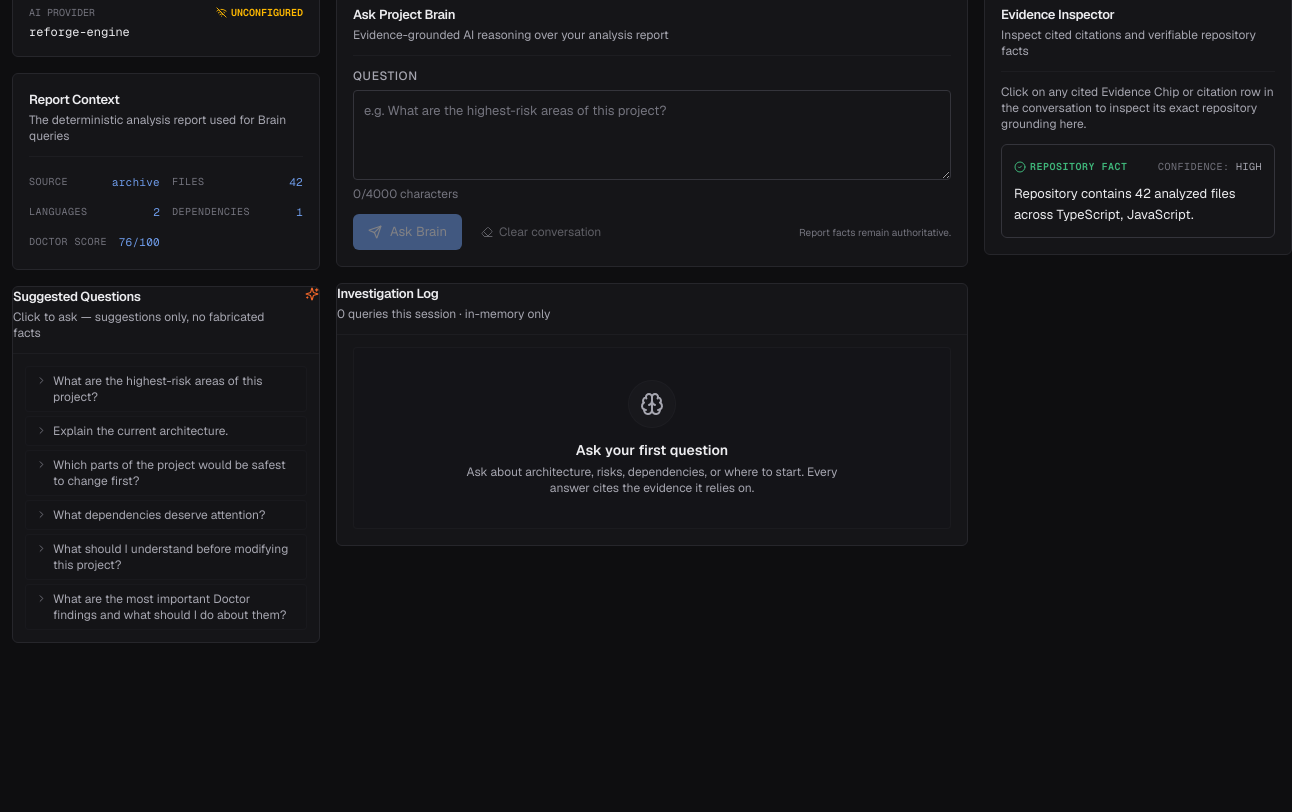
Project Brain › renders limitations prominently
Type "What are the highest-risk areas?" into the text box labelled "Question". click: (652, 135)
box: [353,90,951,180]
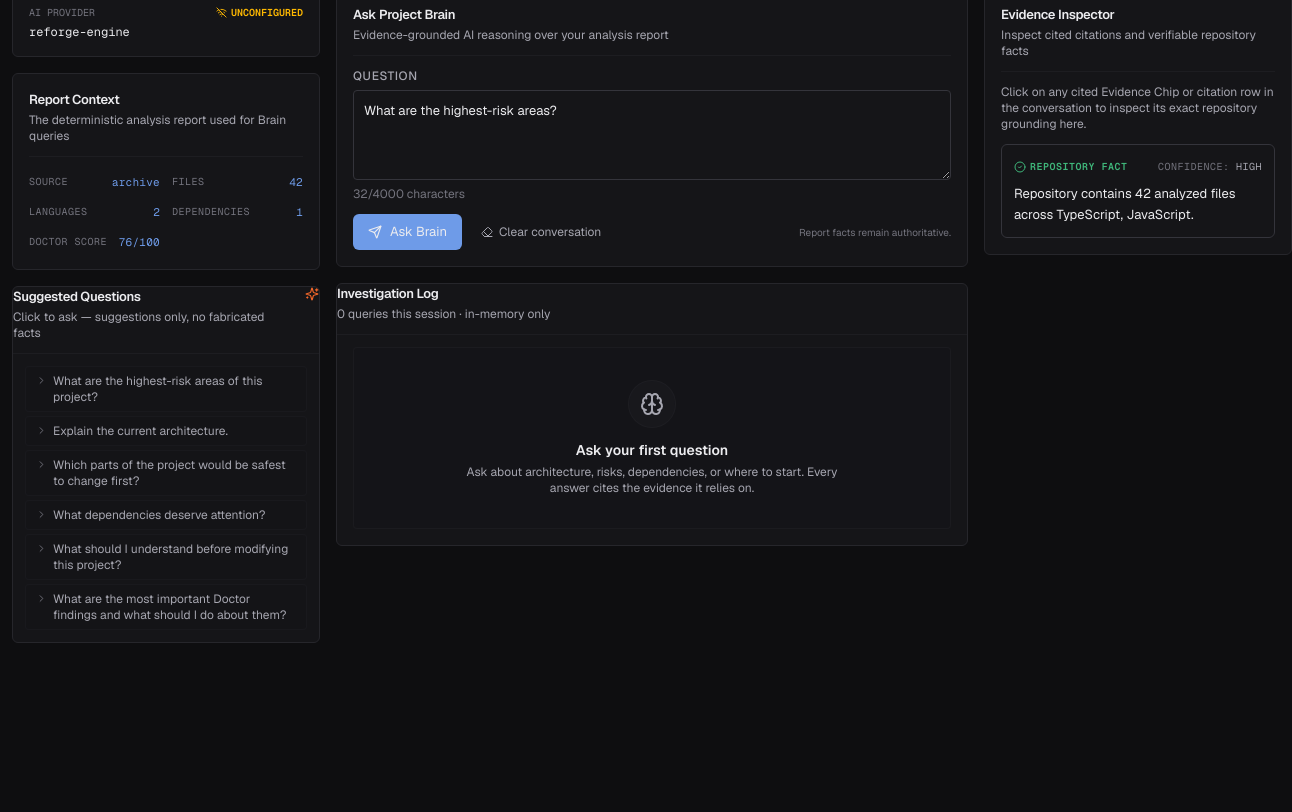
Click the button "Ask Brain". click: (408, 232)
box: [353,214,462,250]
(page scrolled)
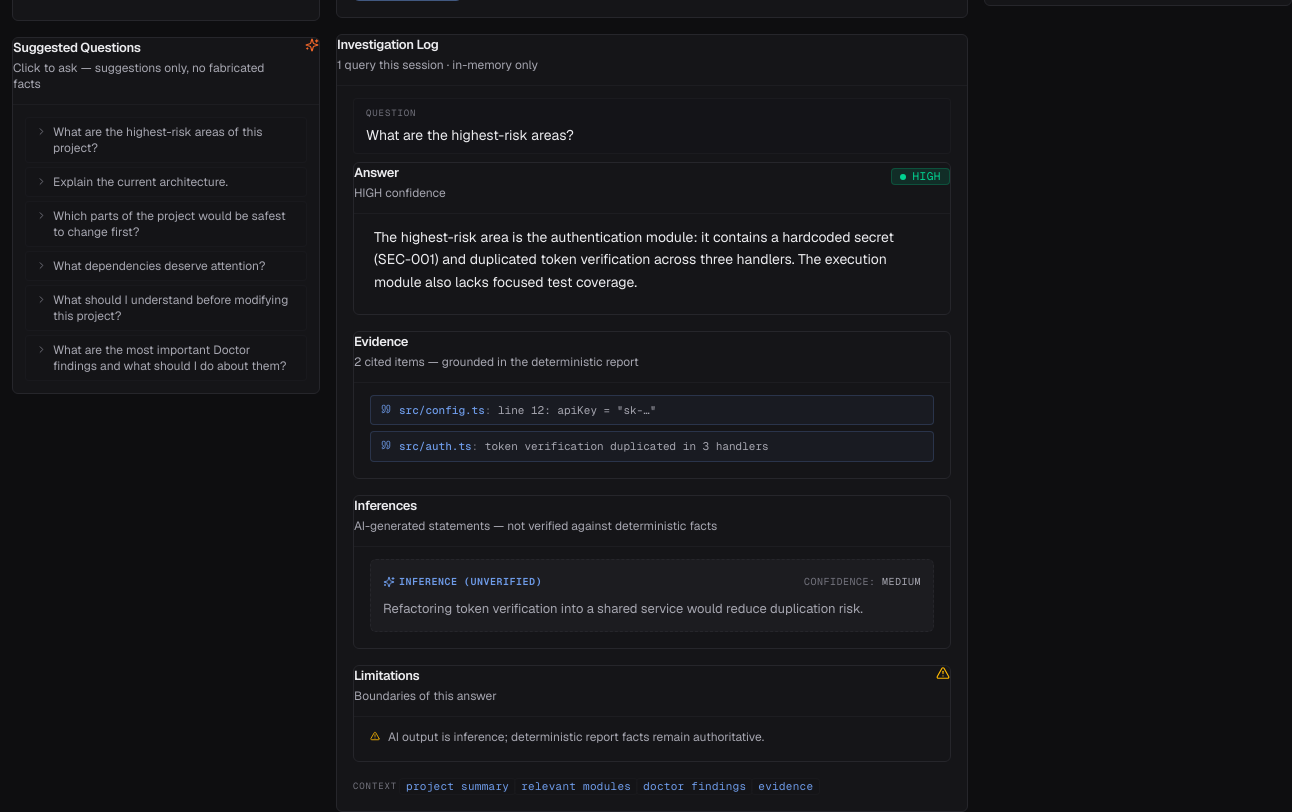
Check: the heading "Limitations" is shown, box [354,667,419,684]
Check: the list item "AI output is inference; deterministic report facts remain authoritative." is shown, box [370,729,764,745]
